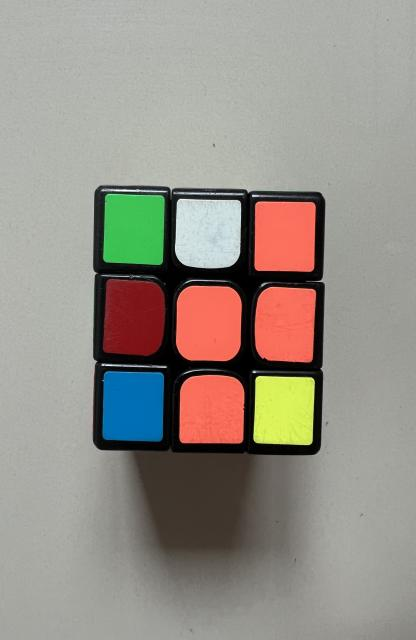Blue: (102, 371, 164, 441)
Green: (103, 194, 165, 265)
Orange: (176, 285, 242, 361), (255, 286, 316, 362), (180, 375, 244, 444), (255, 201, 315, 271)
Red: (103, 279, 166, 356)
White: (174, 199, 242, 269)
Yellow: (254, 376, 315, 445)
